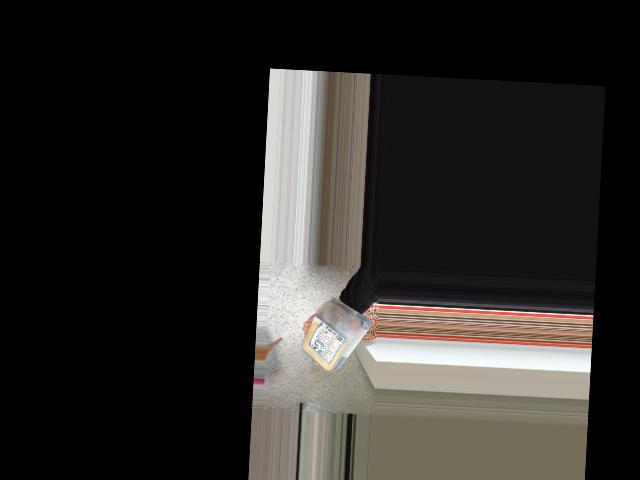cheese: (301, 303, 363, 371)
